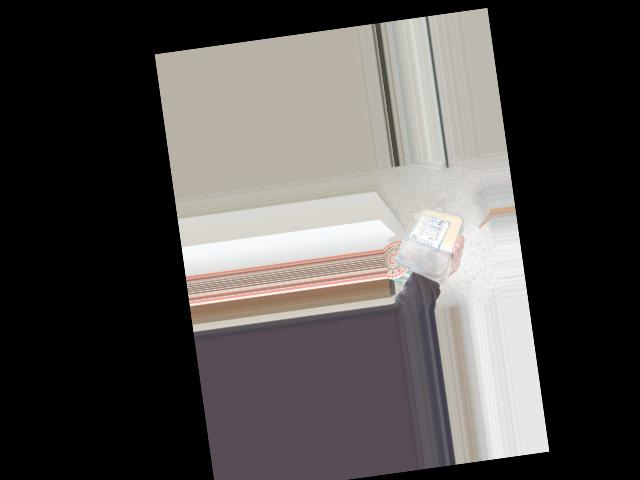cheese: (390, 202, 460, 279)
